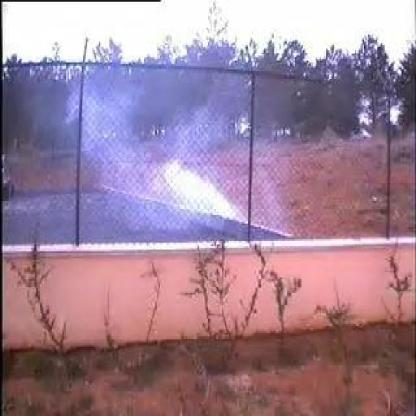-: (79, 88, 251, 236)
